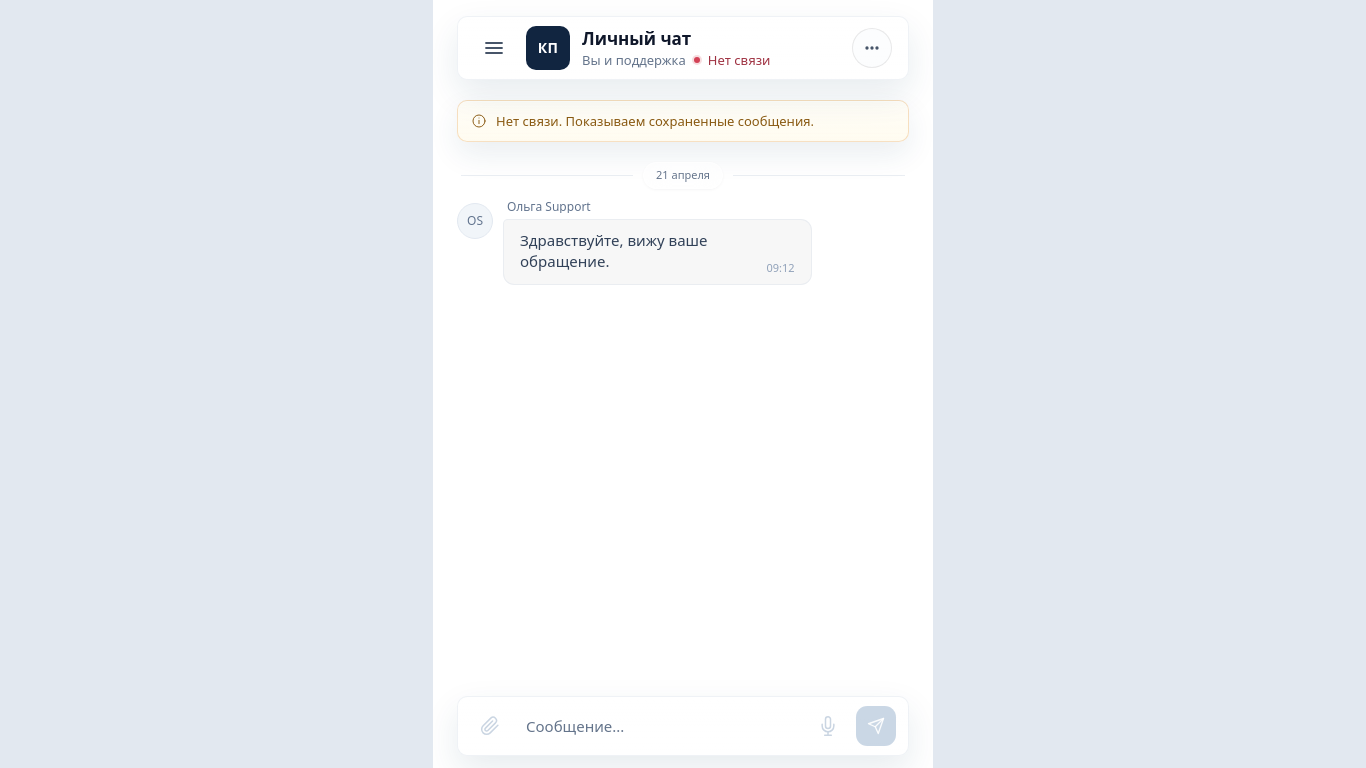
Test case: ChatPage optimistic text send › keeps draft visible when offline queueing is disabled by low storage estimate
The width and height of the screenshot is (1366, 768).
Expected: the text "Здравствуйте, вижу ваше обращение." is shown, [520, 230, 712, 271]
In the text box labelled "Сообщение": (659, 726) [518, 706, 800, 746], type "Мало места"
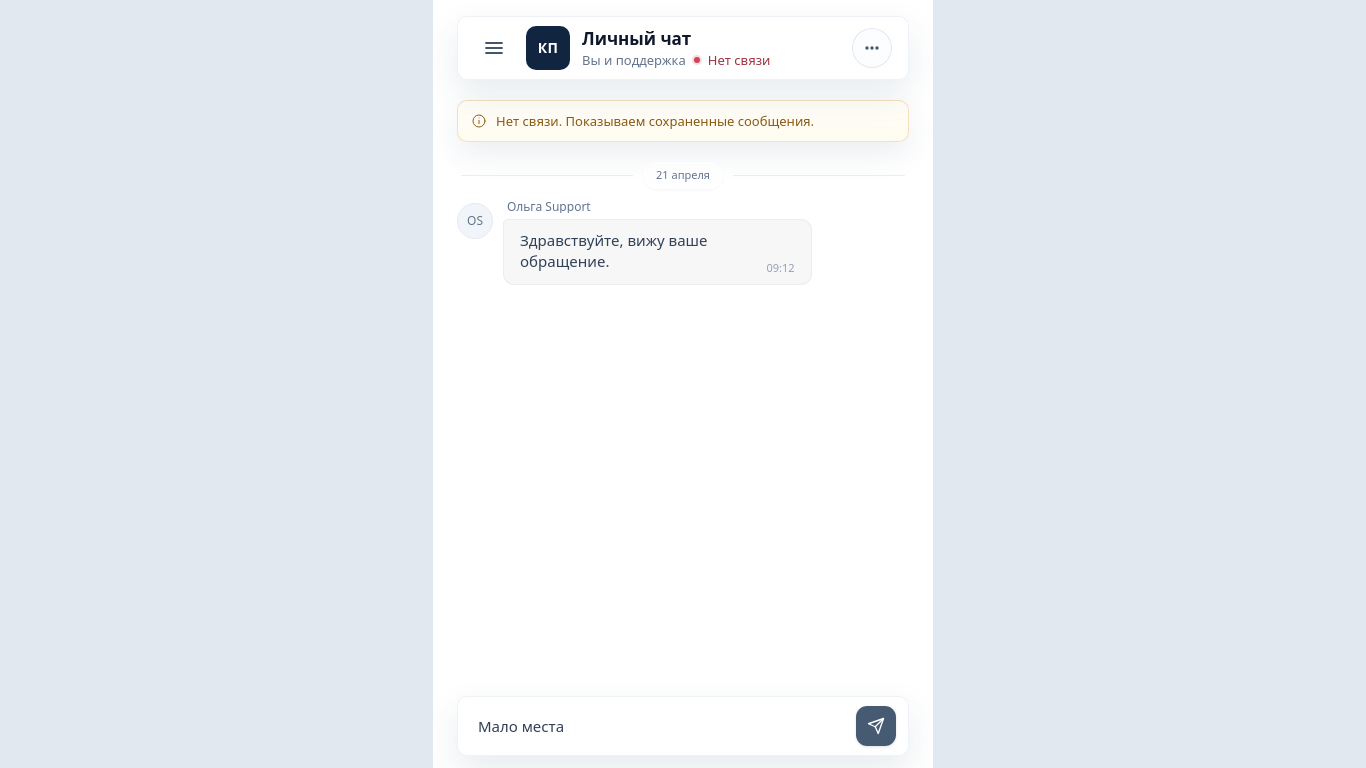
Click the button named "Отправить": (876, 726) [856, 706, 896, 746]
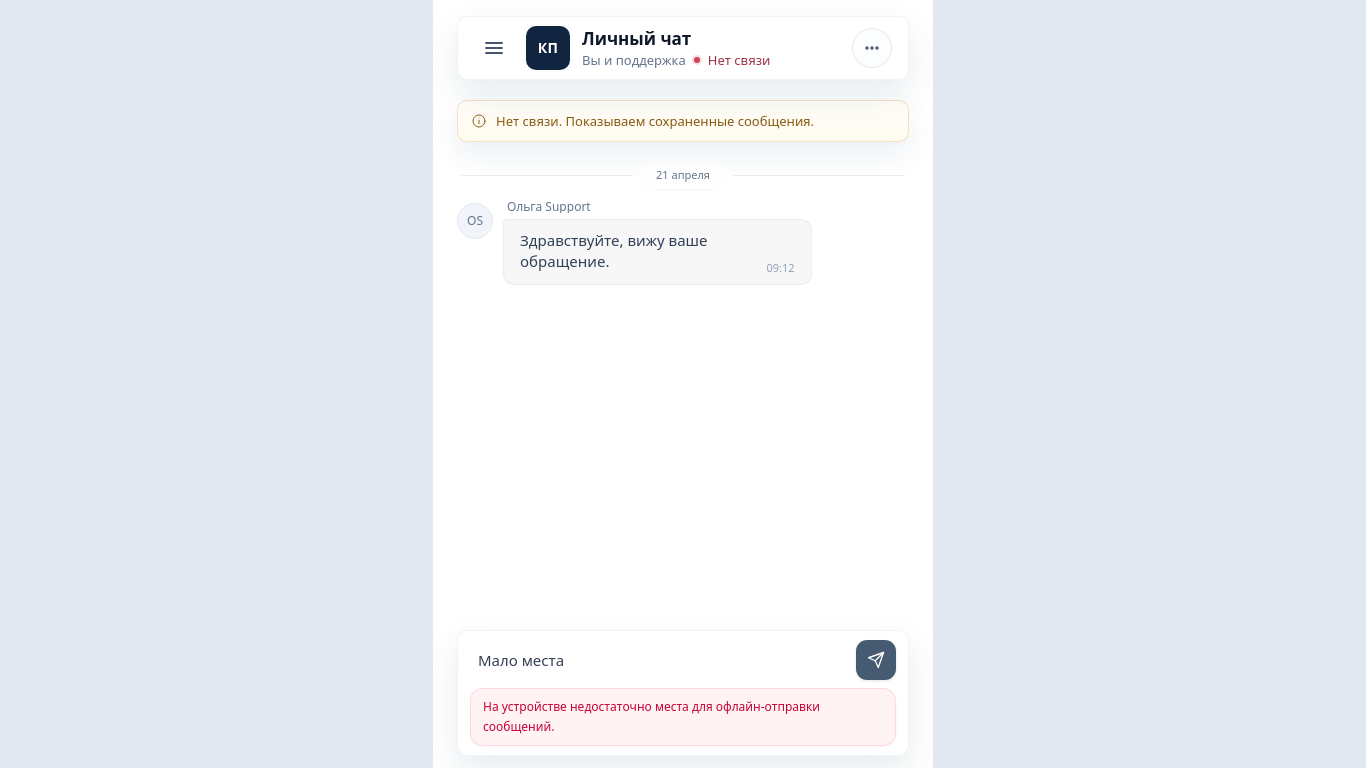
Now the text "На устройстве недостаточно места для офлайн-отправки сообщений." is shown, box [470, 688, 896, 746]
